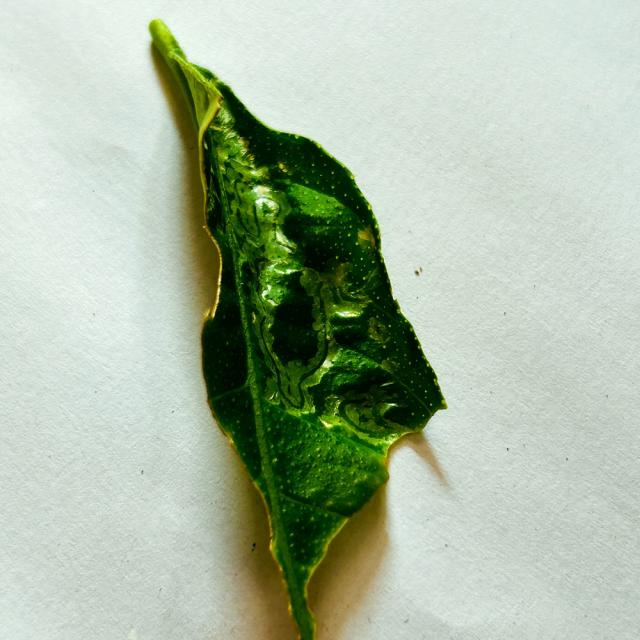Deficiency Leaf: (156, 57, 220, 332), (386, 411, 449, 475)
Lemon: (150, 20, 446, 639)
